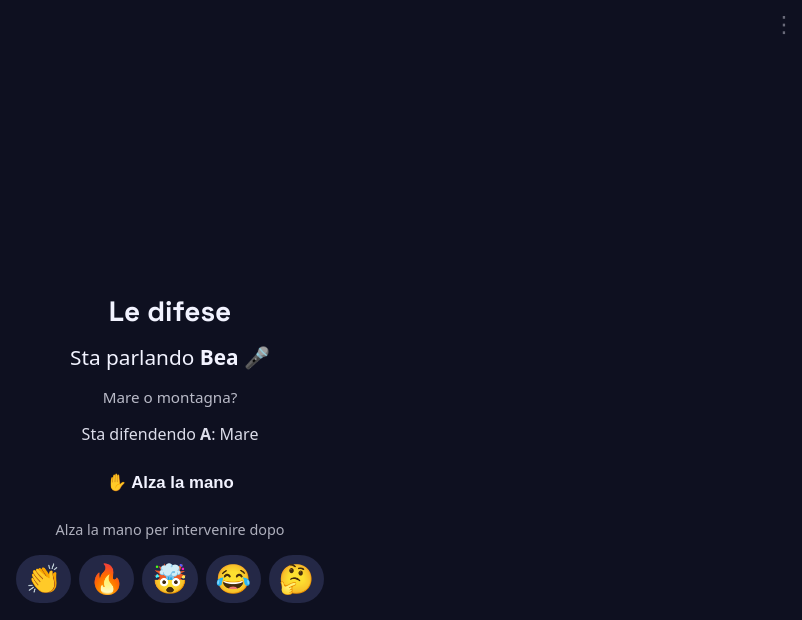
Test case: PlayerApp › shows "coda piena" when the hand-raise queue is full (DEFENSE)
Click the button "✋ Alza la mano" at (170, 483), box left=85, top=461, right=255, bottom=504
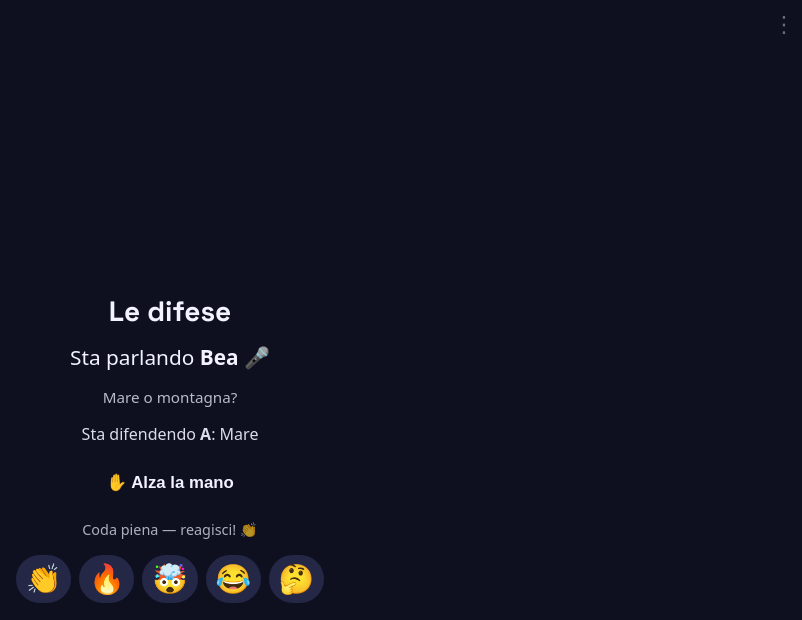
Check: the text "Coda piena — reagisci! 👏" is shown, box left=82, top=520, right=258, bottom=539
